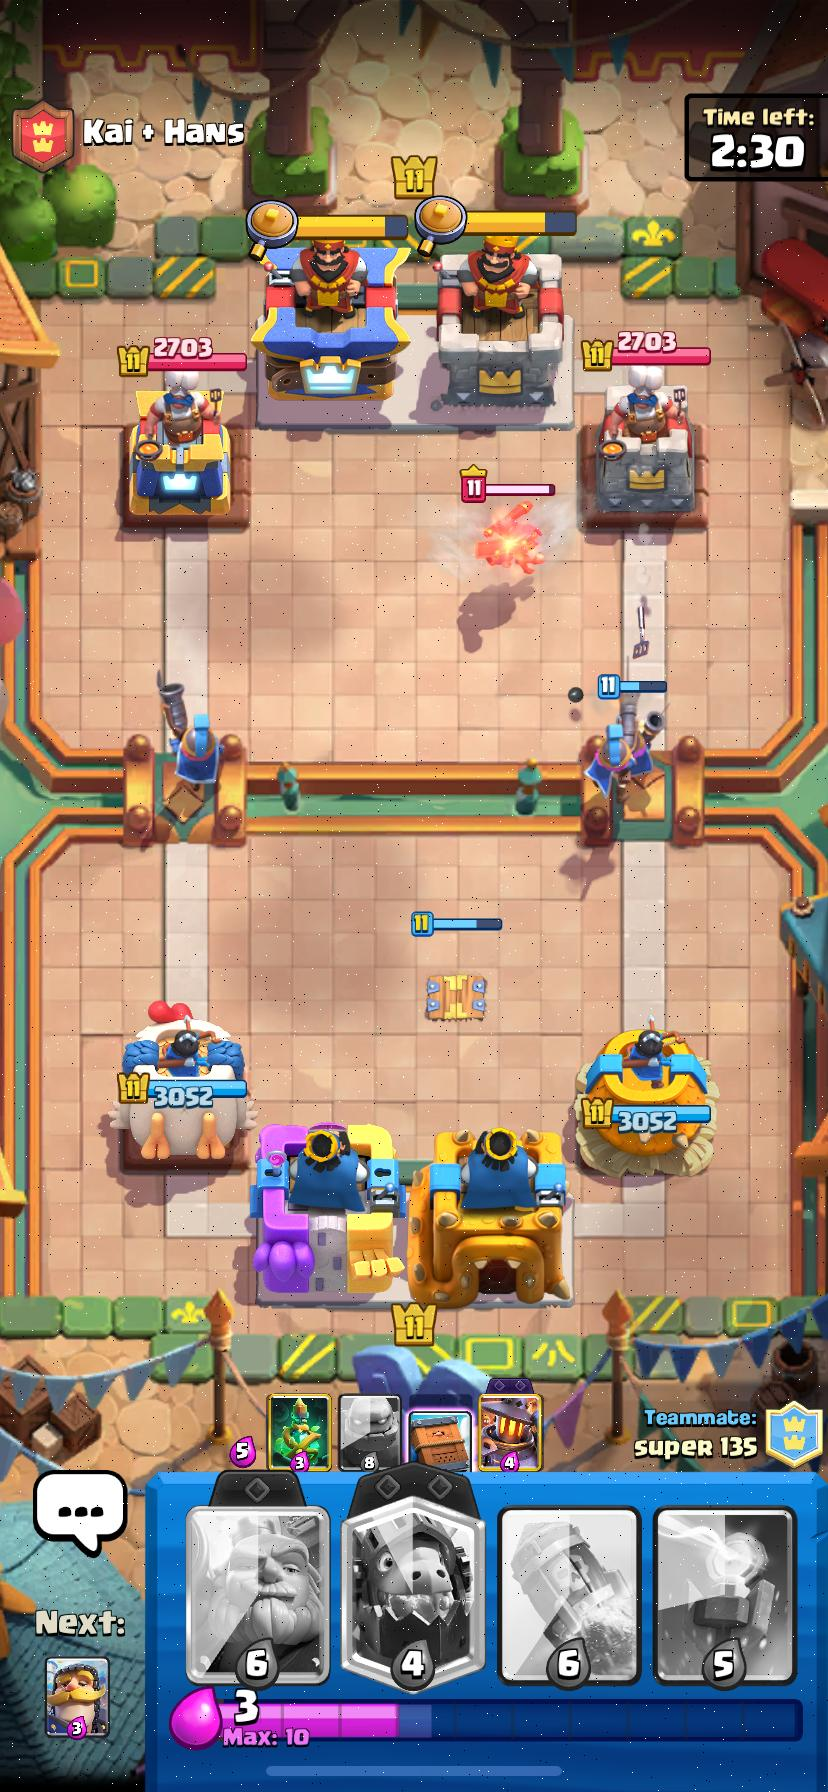EBossBandit: (476, 499, 543, 575)
EKingTower: (252, 238, 409, 399), (436, 246, 570, 408)
EnemyPanTower: (590, 367, 694, 523), (128, 389, 230, 521)
OMuskNew: (157, 672, 224, 801), (621, 694, 664, 776), (589, 723, 629, 797)
OTesla: (425, 975, 486, 1019)
OwnKingTower: (408, 1127, 571, 1305), (250, 1123, 403, 1303)
OwnPrincessTower: (111, 1001, 255, 1160), (576, 1018, 716, 1175)
